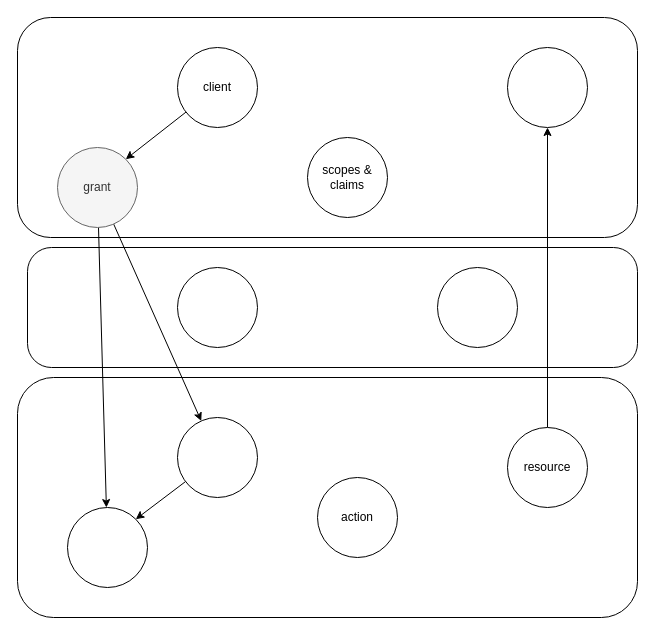
Some shapes in this 655 by 635 pixel diagram are drawn without their labels. The box of each missing label's shape, as (x1, y1, x2, y2) in pixels:
consent: (66, 506, 148, 588)
location: (506, 46, 588, 128)
subject: (176, 416, 258, 498)
